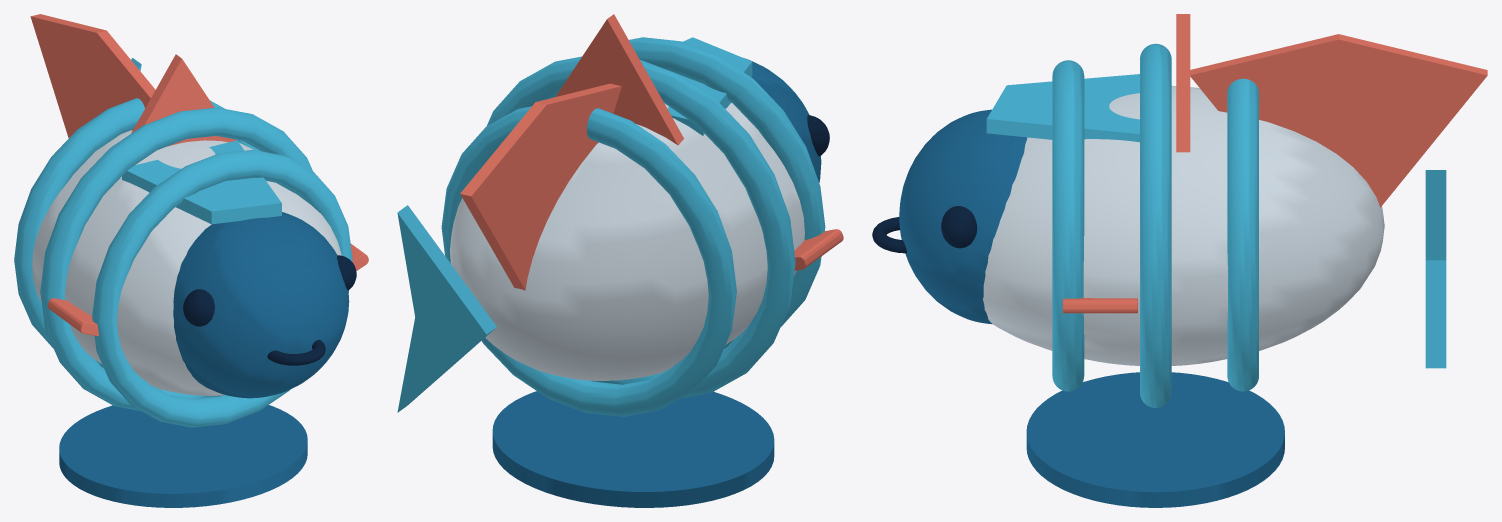
File: 1173_海底两万里_章鱼.glb
3 renders of one model, left to right at view 1: azimuth 30°, elevation 25°; view 2: azimuth 150°, elevation 25°; view 3: azimuth 270°, elevation 25°, orthographic. The views are drawn at different scales.
Visible parts, largest first — view 1: card_1173; view 2: card_1173; view 3: card_1173.
Part boxes in pixels (x1,y1,x2,y2): card_1173: (14, 14, 368, 507); card_1173: (397, 14, 843, 507); card_1173: (872, 14, 1487, 507).
Size of the model in its own units: 0.7723 by 1 by 1.27.
